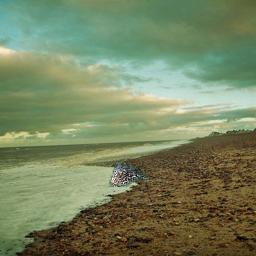Sparrow: (109, 163, 147, 188)
